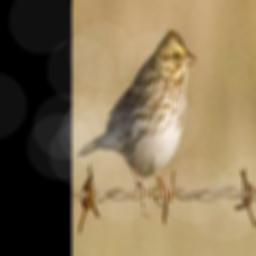Sparrow: (76, 23, 198, 216)
